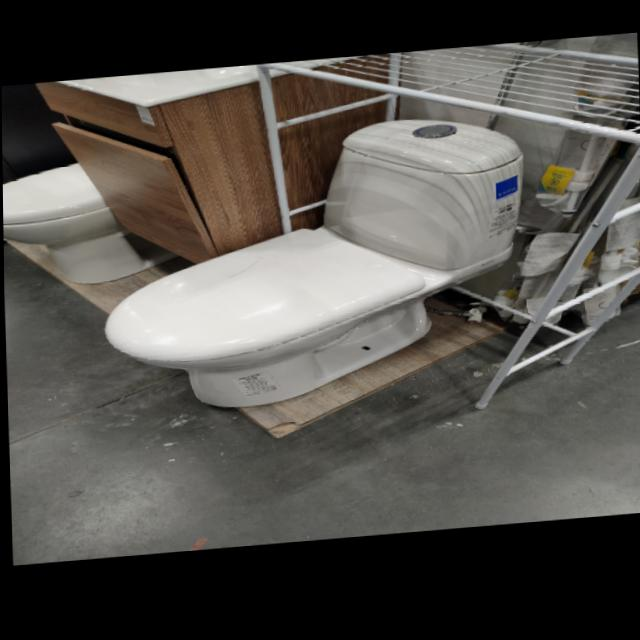toilet: (98, 115, 531, 419), (2, 155, 179, 290)
